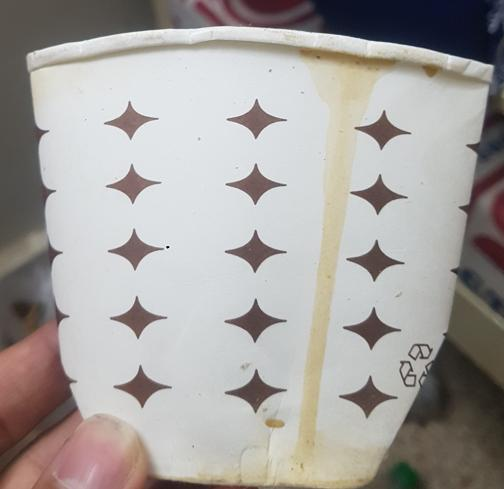paper: (26, 21, 496, 488)
